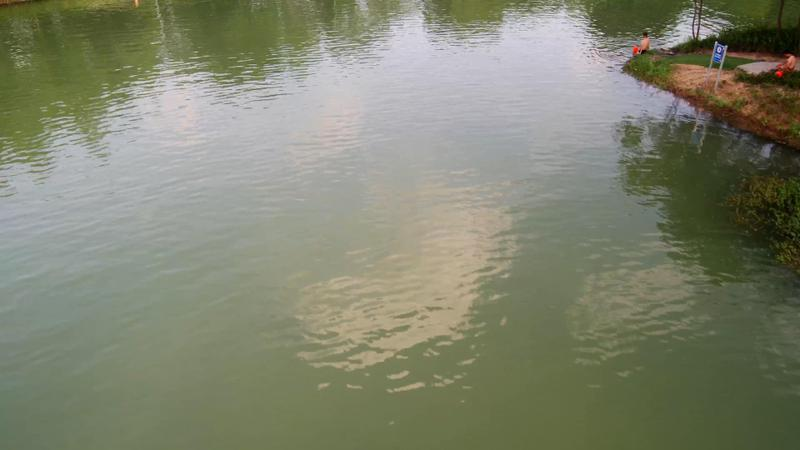sus_swimmers: (775, 50, 797, 71), (638, 30, 651, 55)
